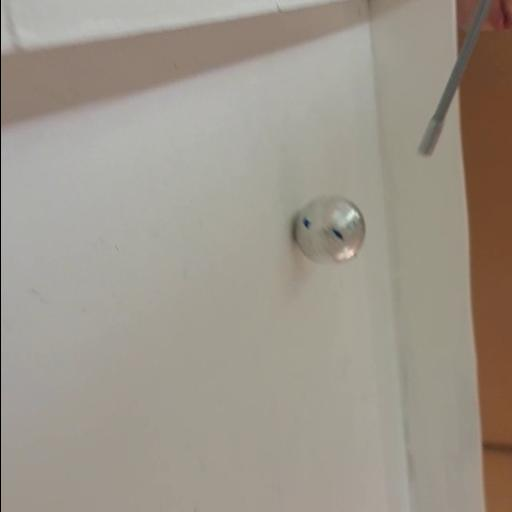alive: (292, 195, 364, 265)
